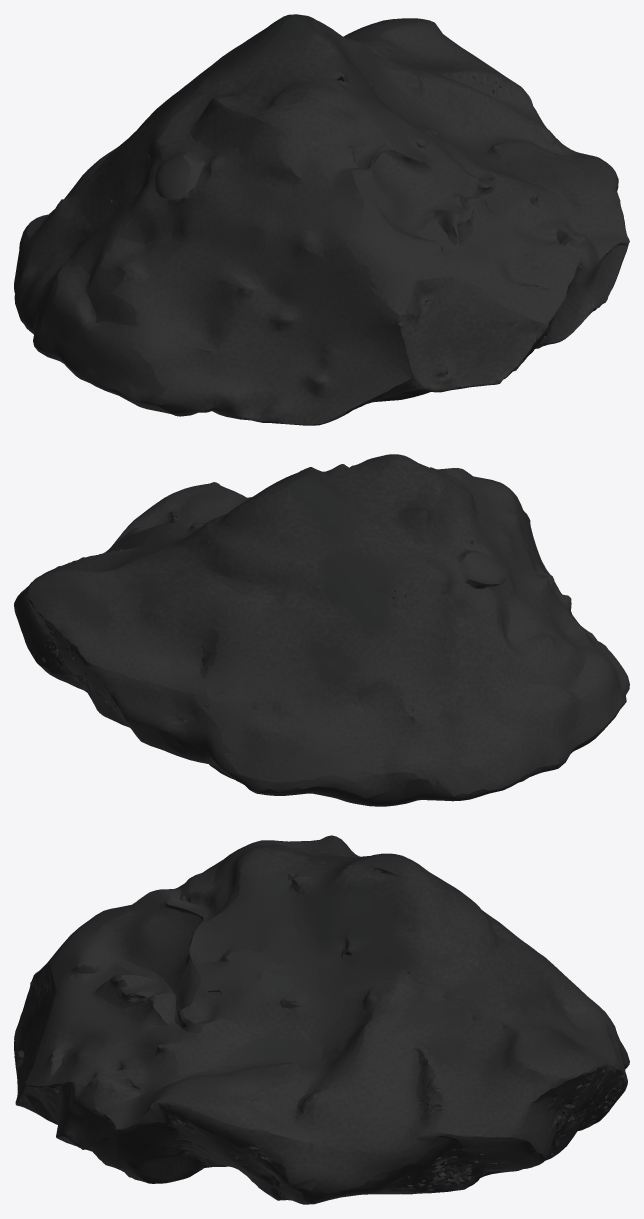
3 renders of one model, top to bottom at view 1: azimuth 30°, elevation 25°; view 2: azimuth 150°, elevation 25°; view 3: azimuth 270°, elevation 25°, orthographic. The views are drawn at different scales.
Visible parts, largest first — view 1: world; view 2: world; view 3: world.
Part boxes in pixels (x1,y1,x2,y2): world: [14, 14, 629, 425]; world: [14, 454, 629, 806]; world: [14, 835, 629, 1204].
Size of the model in its own units: 1.2 by 0.5721 by 1.19.
1 material, 1 textured.
